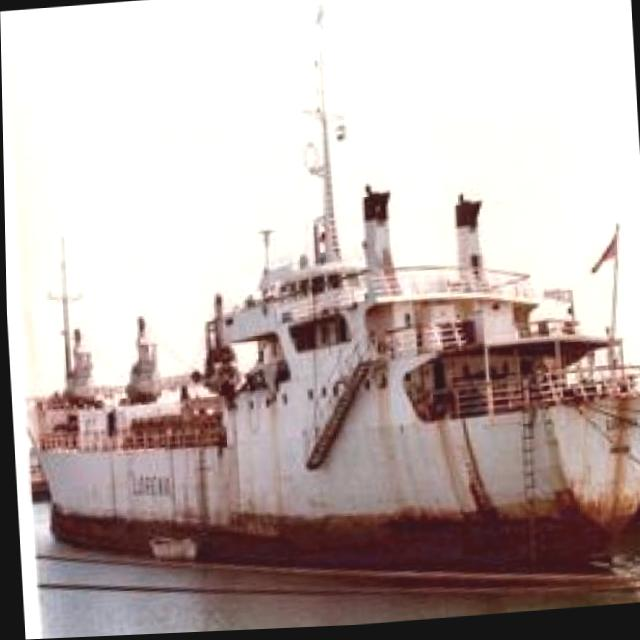ship2: (22, 6, 640, 586)
